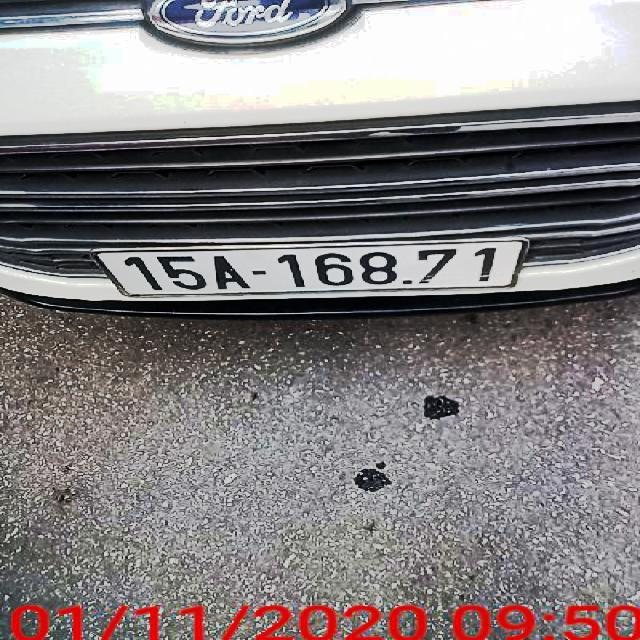license_plate: (95, 241, 527, 299)
